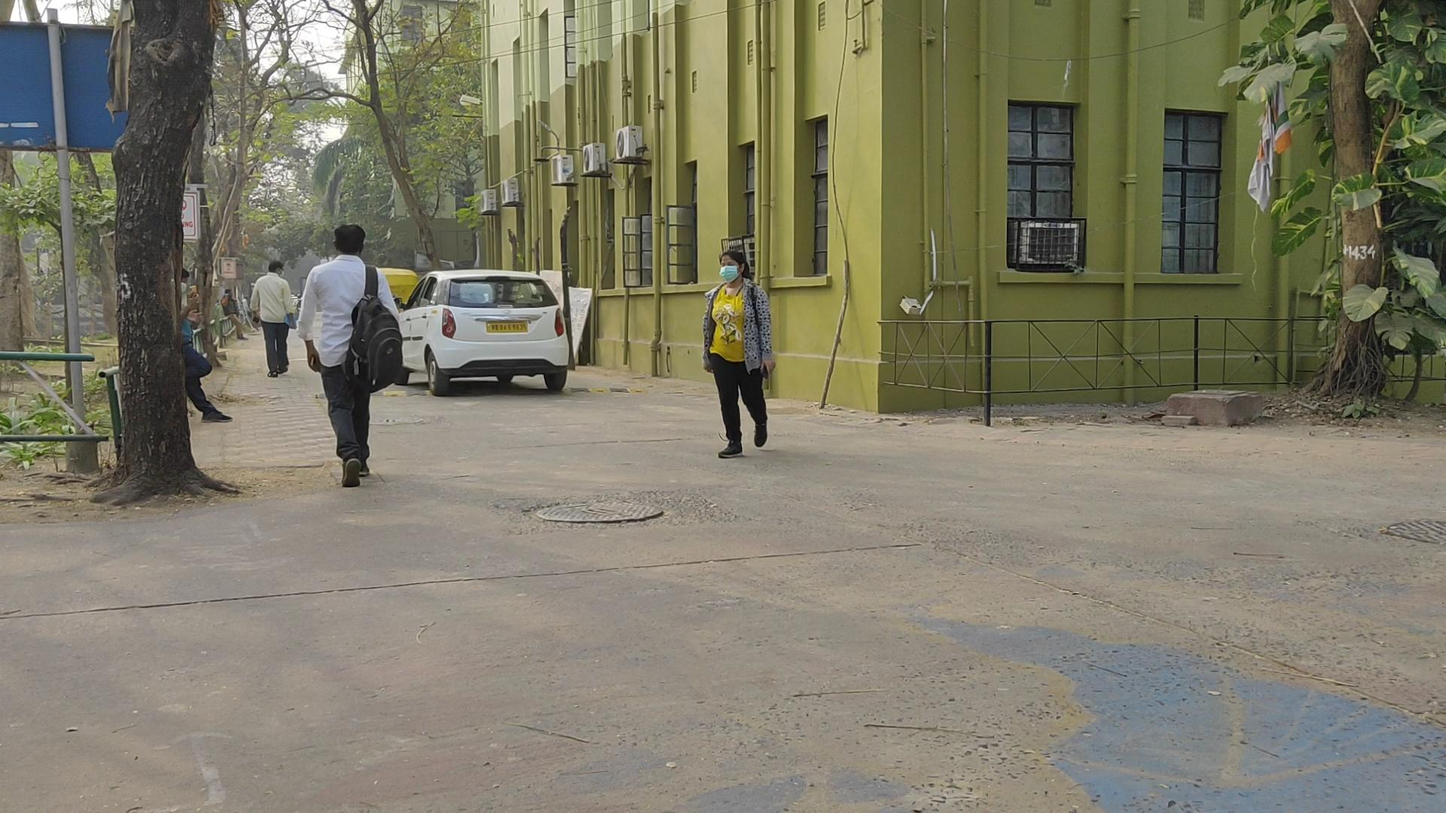car: (395, 271, 571, 396)
